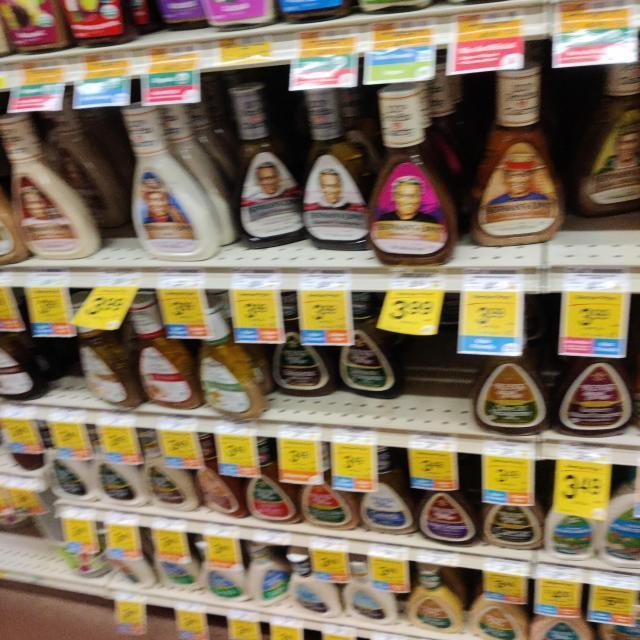Sauce: (467, 68, 579, 246), (360, 82, 460, 276), (120, 104, 226, 270), (0, 107, 112, 263), (220, 78, 314, 254), (289, 80, 384, 248), (466, 308, 554, 439), (551, 317, 640, 445), (190, 302, 276, 424), (127, 288, 206, 418), (328, 304, 407, 406), (298, 442, 368, 538), (79, 418, 146, 514), (481, 455, 540, 552), (416, 467, 482, 551), (185, 436, 249, 522), (246, 442, 302, 529), (143, 437, 198, 513)
